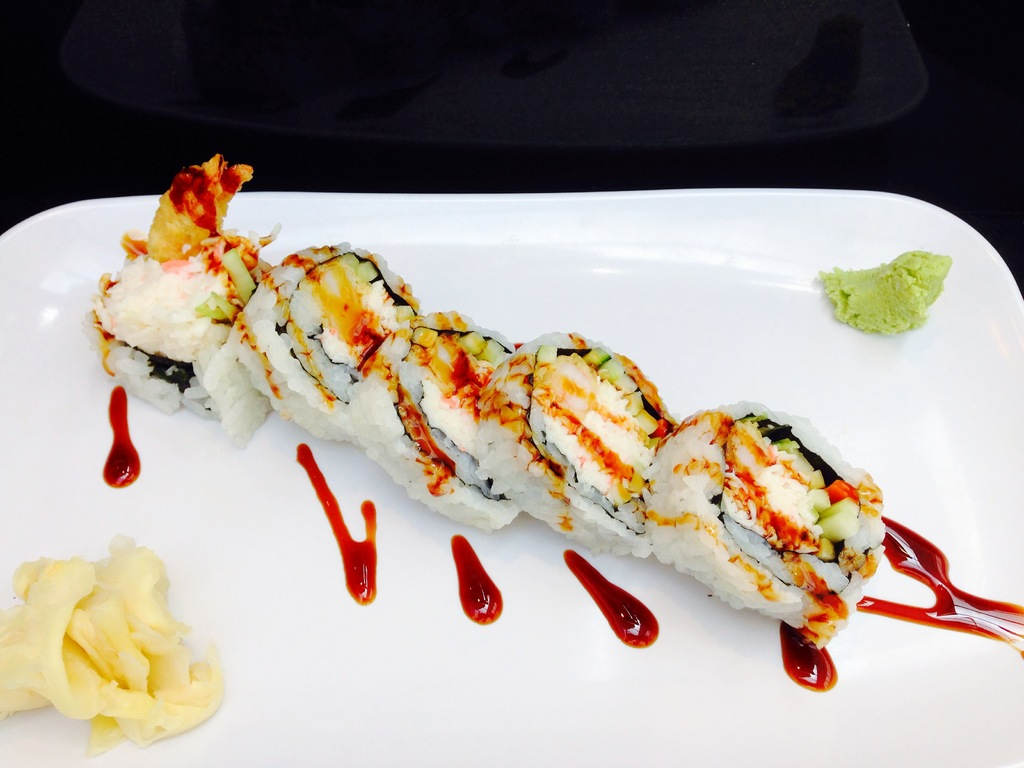sushi: (90, 154, 887, 655), (243, 253, 420, 438)
